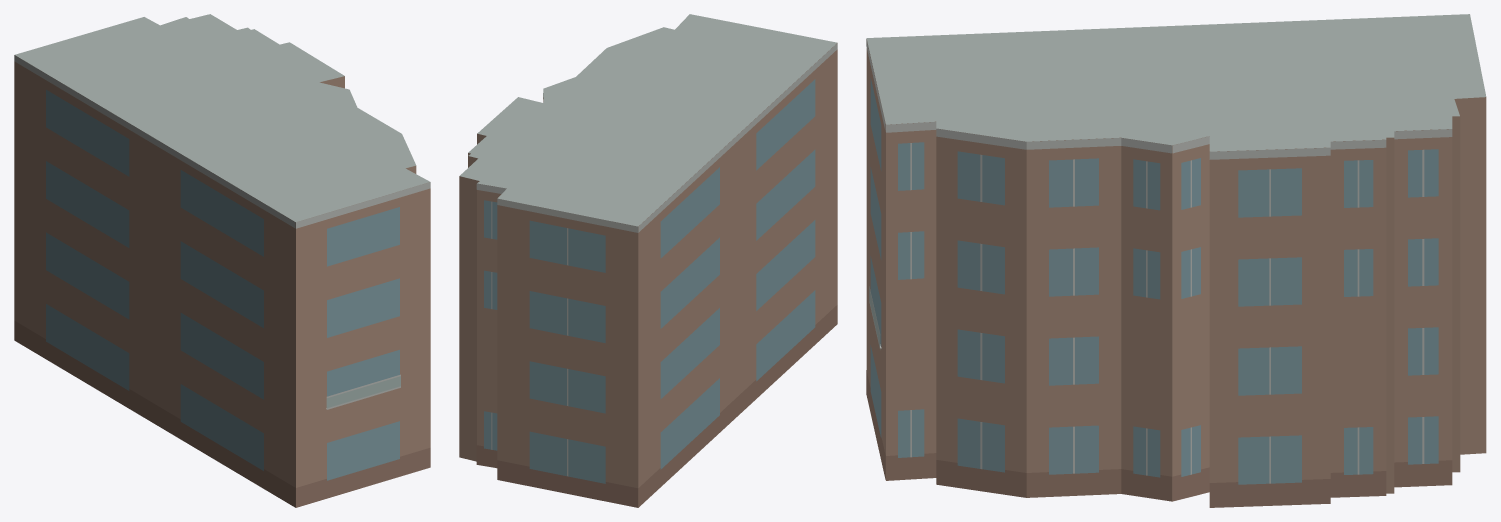
File: survey-upis-32911116.glb
3 views of the same model, side by side, from view 1: azimuth 30°, elevation 25°; view 2: azimuth 150°, elevation 25°; view 3: azimuth 270°, elevation 25° (orthographic). The views are drawn at different scales.
Parts seen in each view (by area): view 1: survey-upis-32911116.tmp; view 2: survey-upis-32911116.tmp; view 3: survey-upis-32911116.tmp.
Boxes of the visible parts, bbox=[...] form: survey-upis-32911116.tmp: bbox=[14, 14, 430, 507]; survey-upis-32911116.tmp: bbox=[459, 14, 837, 507]; survey-upis-32911116.tmp: bbox=[866, 14, 1486, 507].
Size of the model in its own units: 8.88 by 10.7 by 16.89.
